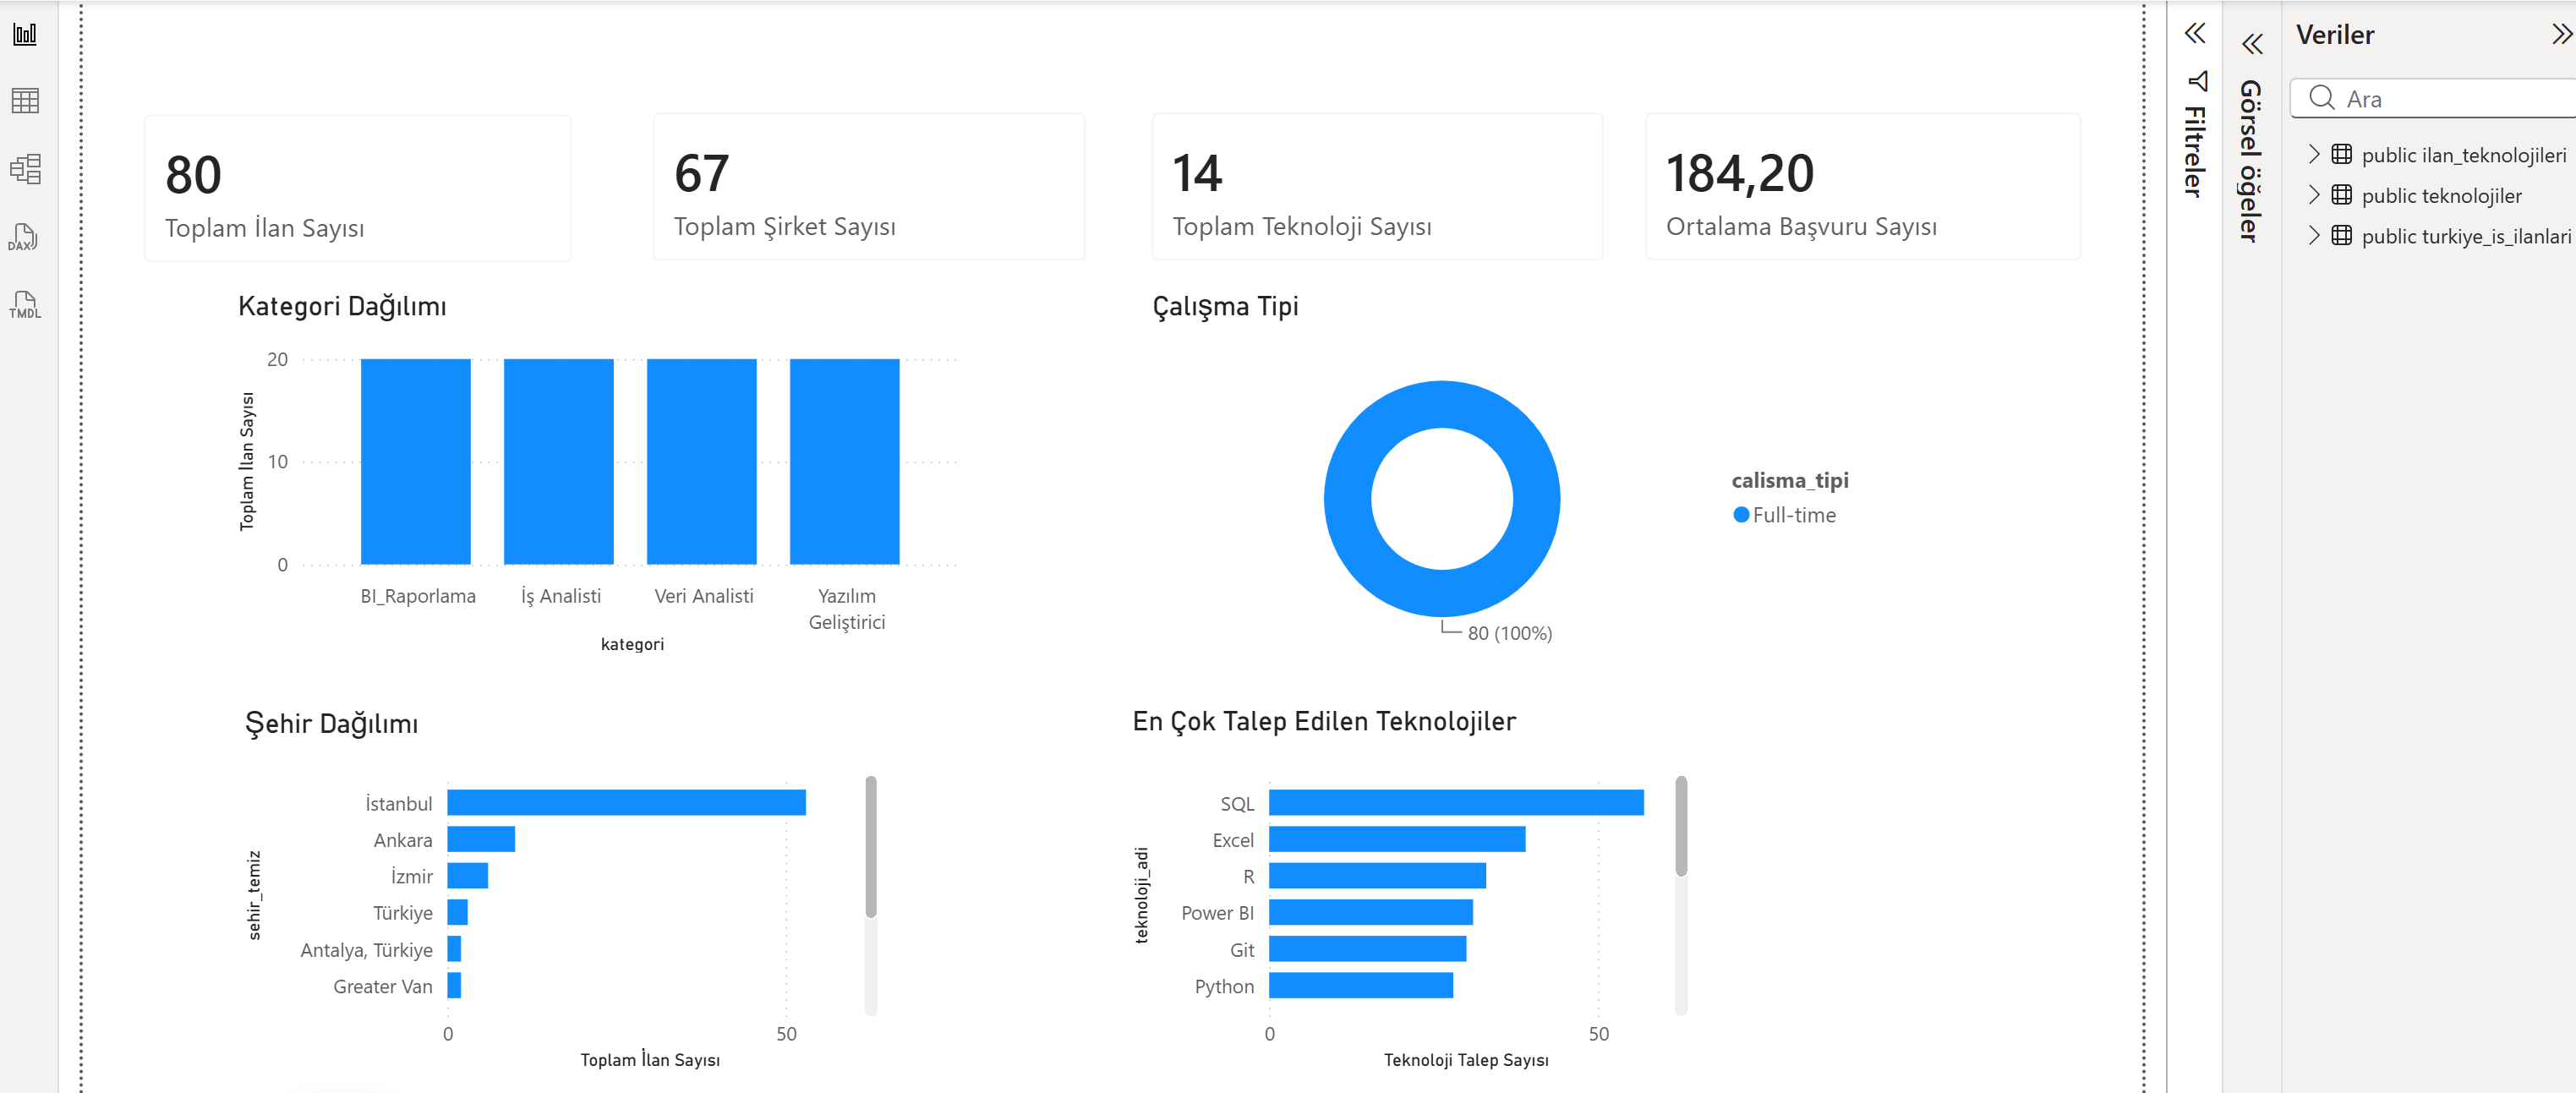

This screenshot's page, from the dashboard's own definition file:
{"tool":"powerbi","page":{"name":"1. sayfa","canvas":[1280,720],"ordinal":0},"visuals":[{"type":"cardVisual","fields":{"Data":["public turkiye_is_ilanlari.Toplam İlan Sayısı"]},"box":[21.2,53.1,300.9,126],"z":0},{"type":"cardVisual","fields":{"Data":["public ilan_teknolojileri.Toplam Şirket Sayısı"]},"box":[337,52.4,303,126],"z":1},{"type":"cardVisual","fields":{"Data":["public ilan_teknolojileri.Toplam Teknoloji Sayısı"]},"box":[647.8,52.4,315,126.7],"z":2},{"type":"cardVisual","fields":{"Data":["public ilan_teknolojileri.Ortalama Başvuru Sayısı"]},"box":[954.3,52.4,305.1,126],"z":3},{"type":"columnChart","title":"Kategori Dağılımı","fields":{"Y":["public turkiye_is_ilanlari.Toplam İlan Sayısı"],"Category":["public turkiye_is_ilanlari.kategori"]},"box":[91.8,178.7,459.9,231.7],"z":4},{"type":"donutChart","title":"Çalışma Tipi","fields":{"Category":["public turkiye_is_ilanlari.calisma_tipi"],"Y":["public turkiye_is_ilanlari.Toplam İlan Sayısı"]},"box":[660.5,178.7,460,232],"z":5},{"type":"clusteredBarChart","title":"Şehir Dağılımı","fields":{"Y":["public turkiye_is_ilanlari.Toplam İlan Sayısı"],"Category":["public turkiye_is_ilanlari.sehir_temiz"]},"box":[96.1,438.7,403.4,231],"z":6},{"type":"clusteredBarChart","title":"En Çok Talep Edilen Teknolojiler","fields":{"Category":["public teknolojiler.teknoloji_adi"],"Y":["public ilan_teknolojileri.Teknoloji Talep Sayısı"]},"box":[647.8,438.7,355.3,231],"z":7}]}

Visuals, with their boxes on the page's 1280x720 design canvas (x1, y1, x2, y2). These are canvas units, not pixel positions in the 2576x1093 screenshot, which may show the page scaled, cropped or inside an application window:
cardVisual - public turkiye_is_ilanlari.Toplam İlan Sayısı: x1=21 y1=53 x2=322 y2=179
cardVisual - public ilan_teknolojileri.Toplam Şirket Sayısı: x1=337 y1=52 x2=640 y2=178
cardVisual - public ilan_teknolojileri.Toplam Teknoloji Sayısı: x1=648 y1=52 x2=963 y2=179
cardVisual - public ilan_teknolojileri.Ortalama Başvuru Sayısı: x1=954 y1=52 x2=1259 y2=178
"Kategori Dağılımı" columnChart: x1=92 y1=179 x2=552 y2=410
"Çalışma Tipi" donutChart: x1=660 y1=179 x2=1120 y2=411
"Şehir Dağılımı" clusteredBarChart: x1=96 y1=439 x2=500 y2=670
"En Çok Talep Edilen Teknolojiler" clusteredBarChart: x1=648 y1=439 x2=1003 y2=670
